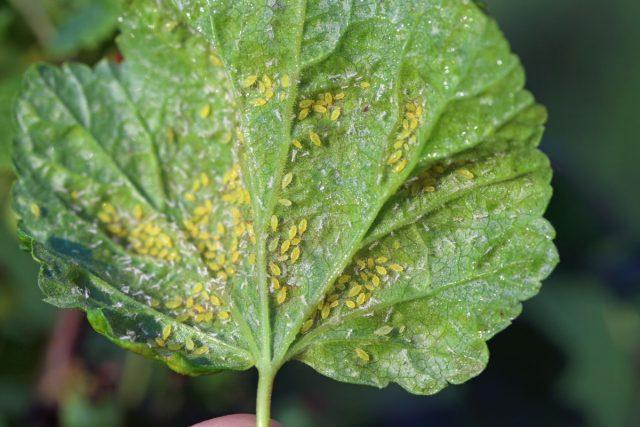Myzus persicae: (13, 0, 556, 426)
